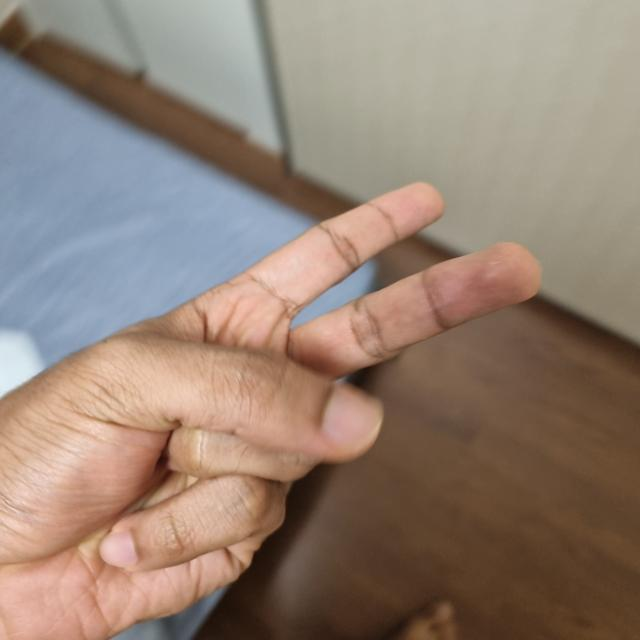Scissors: (1, 183, 536, 639)
